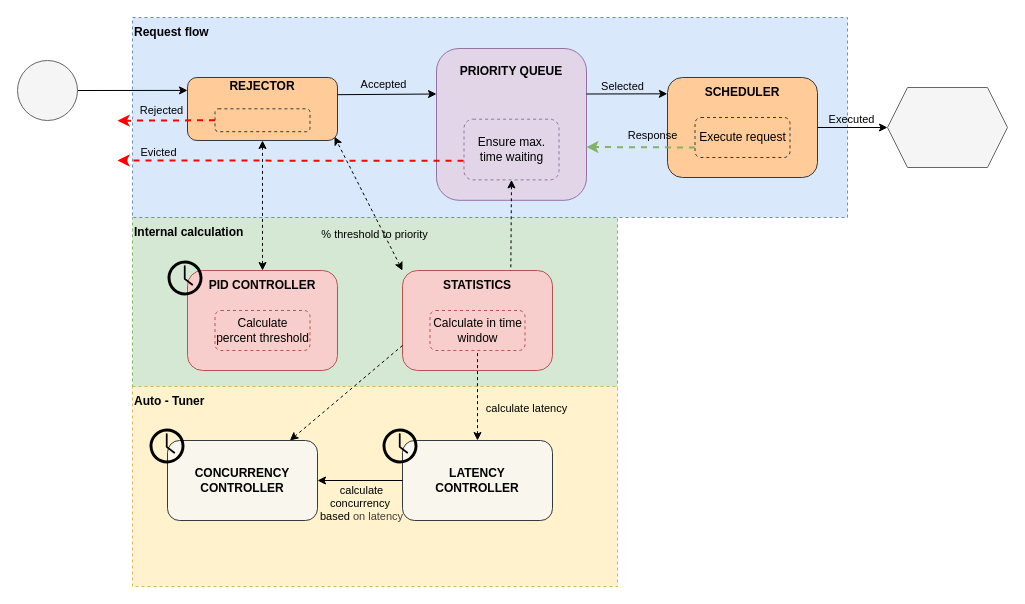
The diagram is 1025 pixels wide and 604 high, and some of its shapes have lost their labels. Here are the shapes that lost their labels. From the top down, the centre of each, then its label:
At (x=47, y=90): "REQUEST".
At (x=262, y=120): "Ensure priority".
At (x=947, y=127): "BUSINESS LOGIC".
